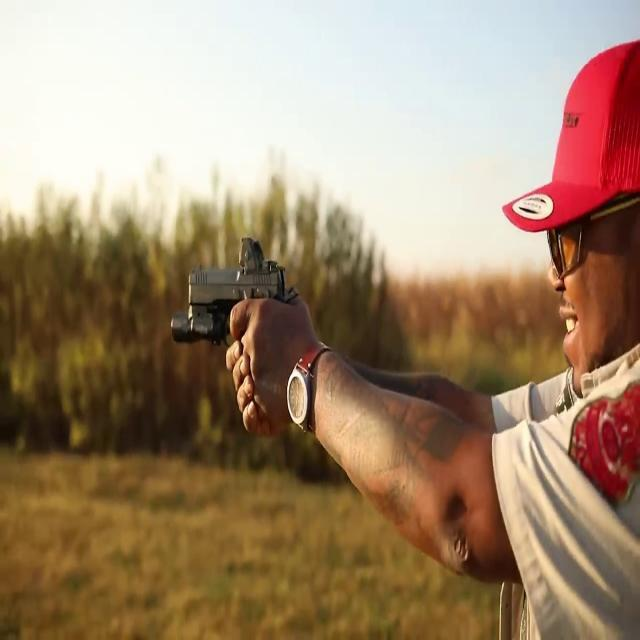Handgun: (161, 218, 301, 434)
